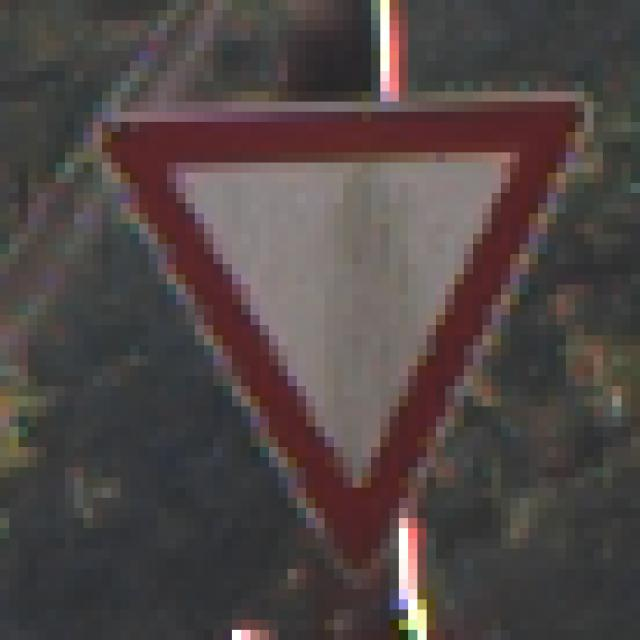Give Way: (57, 62, 576, 580)
